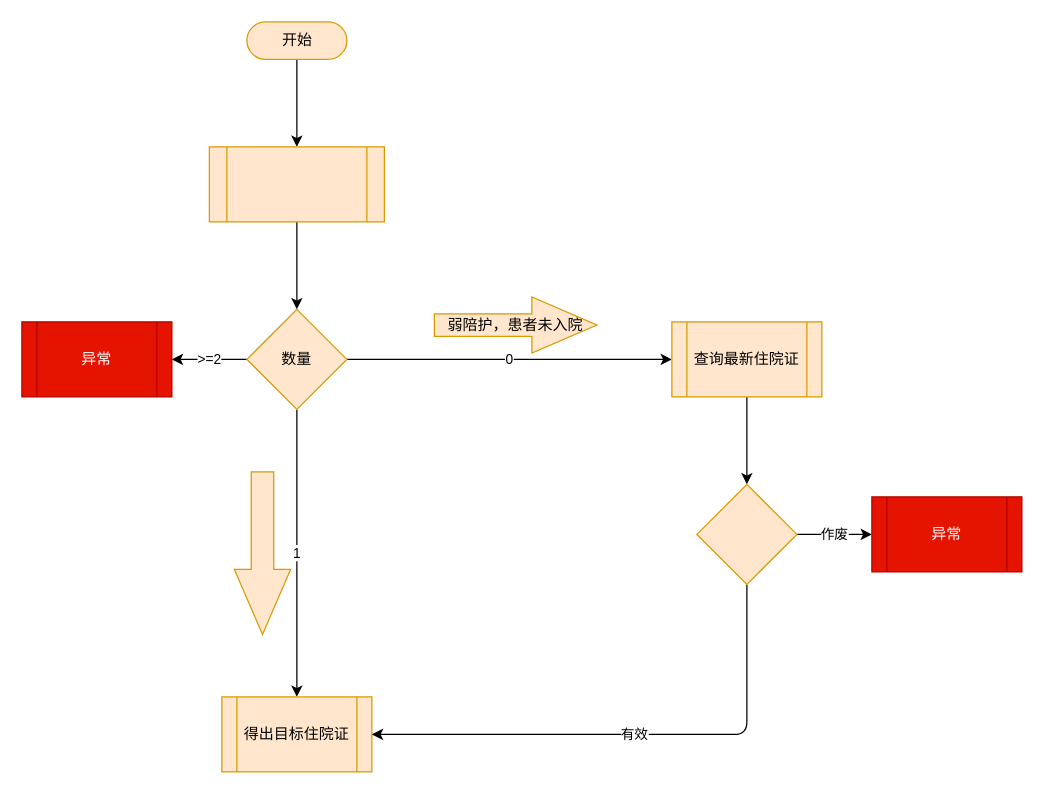
Some shapes in this 1044 by 794 pixel diagram are drawn without their labels. The centre of each missing label's shape, as x and y in pixels:
"强陪护，患者已入院" belongs at (x=262, y=552).
"查询在院的住院实体" belongs at (x=296, y=184).
"状态" belongs at (x=746, y=533).
